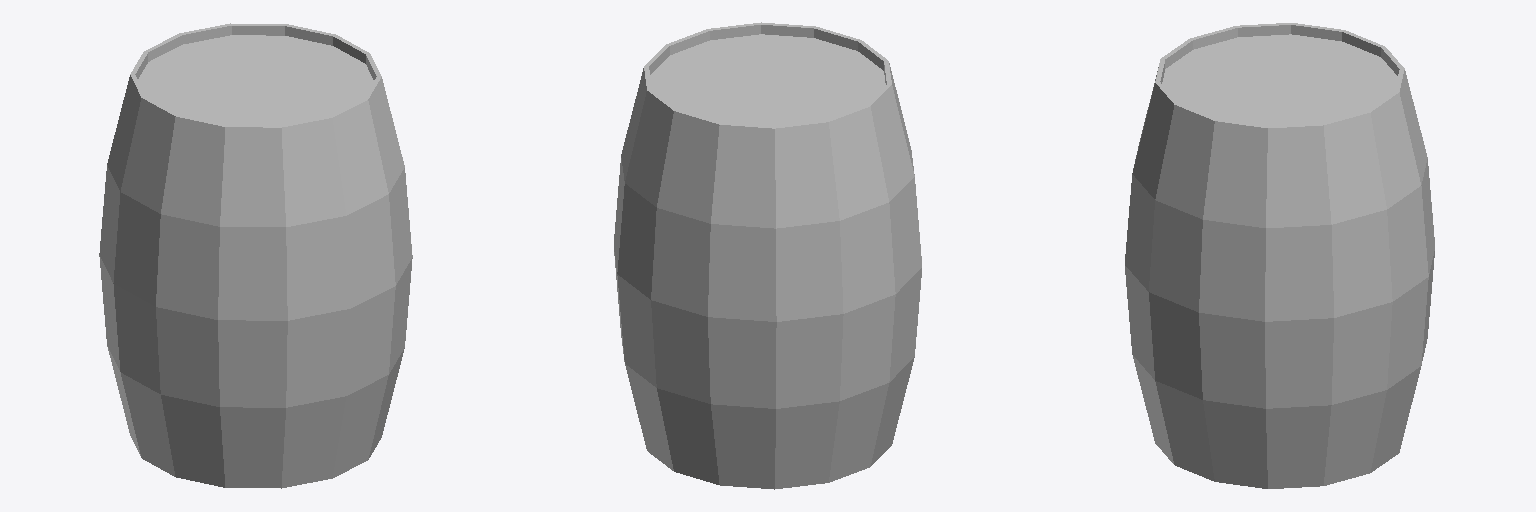
File: barrel.obj
3 views of the same model, side by side, from view 1: azimuth 30°, elevation 25°; view 2: azimuth 150°, elevation 25°; view 3: azimuth 270°, elevation 25° (orthographic).
Visible parts, largest first — view 1: barrel; view 2: barrel; view 3: barrel.
Part boxes in pixels (x1,y1,x2,y2): barrel: (99,23,412,488); barrel: (614,22,921,489); barrel: (1125,23,1434,488).
Bounding box in the file's own units: 0.6239 × 0.7961 × 0.6215.